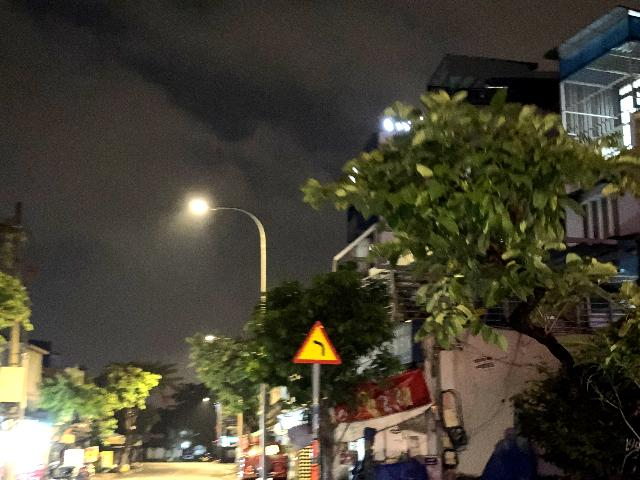cho-ngoat-nguy-hiem-ben-trai: (292, 319, 342, 365)
